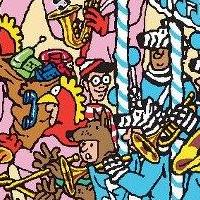waldo: (85, 58, 109, 102)
